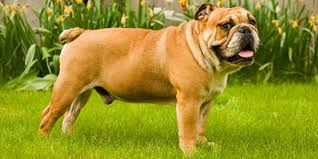Bulldog: (37, 1, 268, 157)
